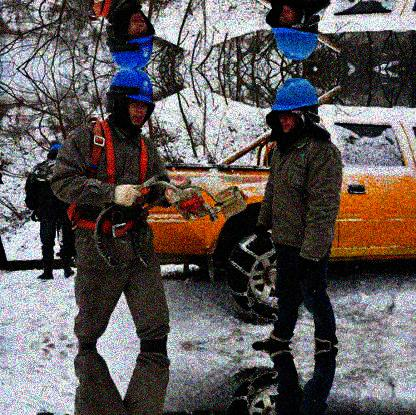helmet: (101, 69, 159, 129), (266, 5, 323, 61), (105, 11, 158, 67), (269, 78, 323, 132)
